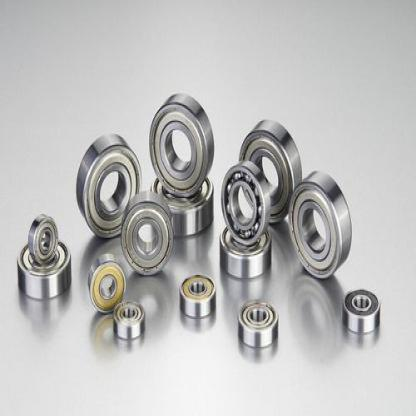FOD: (73, 129, 144, 240), (147, 88, 216, 198), (287, 168, 354, 281), (238, 117, 302, 230), (146, 165, 216, 239), (119, 190, 175, 280), (219, 160, 272, 248), (16, 235, 73, 303), (218, 217, 274, 280), (85, 255, 128, 319), (233, 298, 281, 350), (341, 286, 383, 336), (175, 274, 219, 320), (26, 212, 60, 270), (110, 297, 146, 346)
